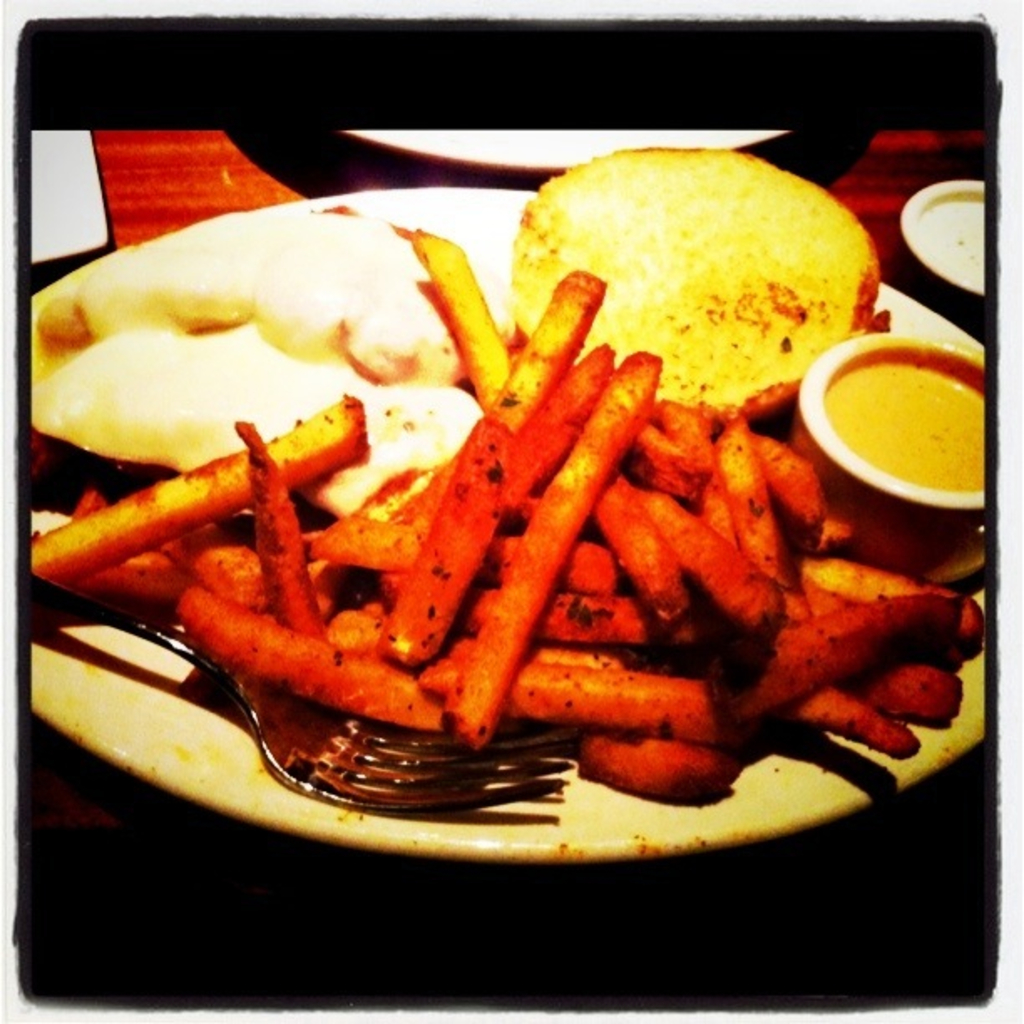French fries: (100, 267, 943, 806)
